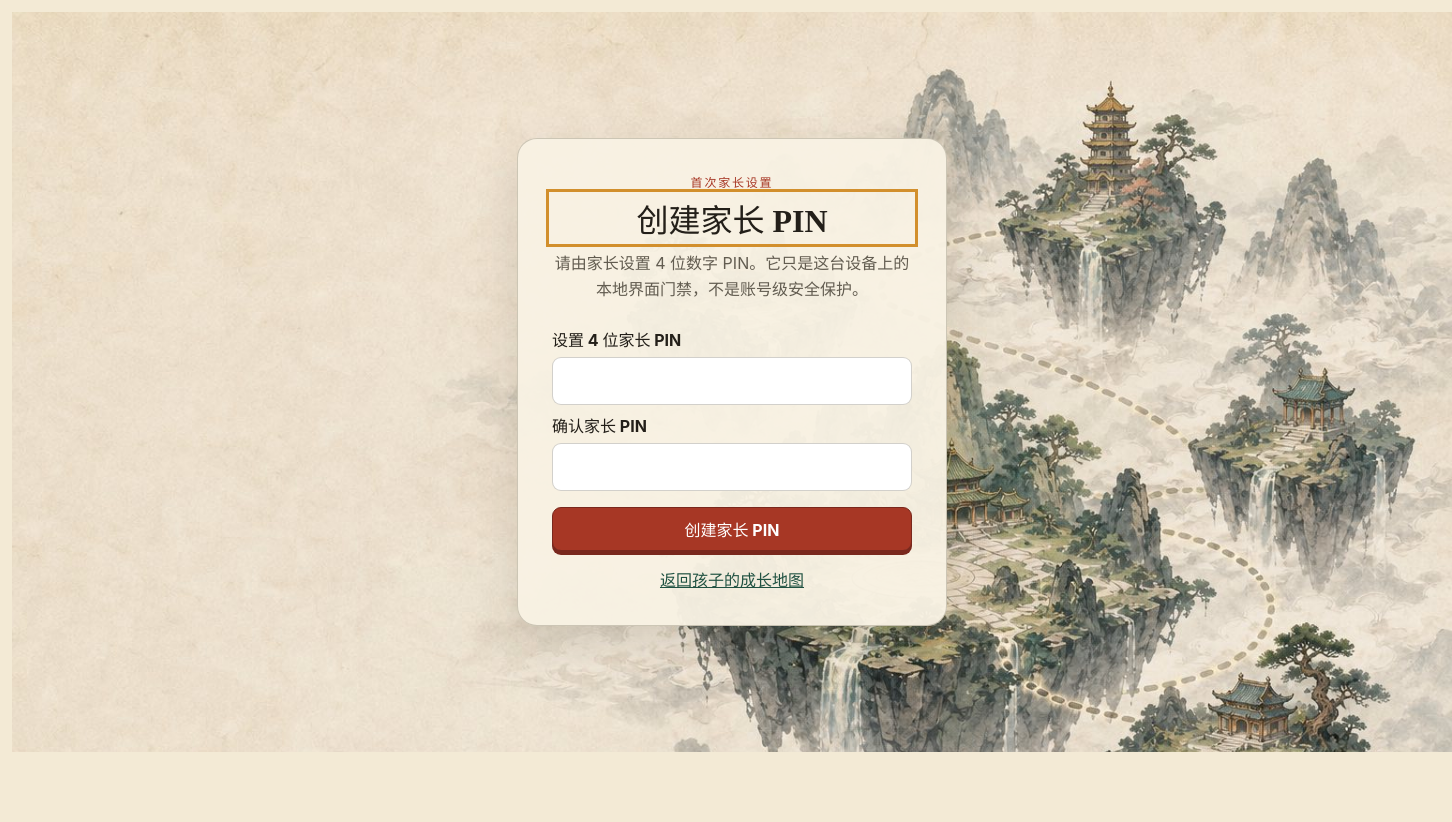
Scenario: ParentAccessGate › commits only after acknowledgement and retries a failed transaction without losing the code
The width and height of the screenshot is (1452, 822).
In the password field labelled "设置 4 位家长 PIN": (732, 381) [552,357,912,405], type "4826"
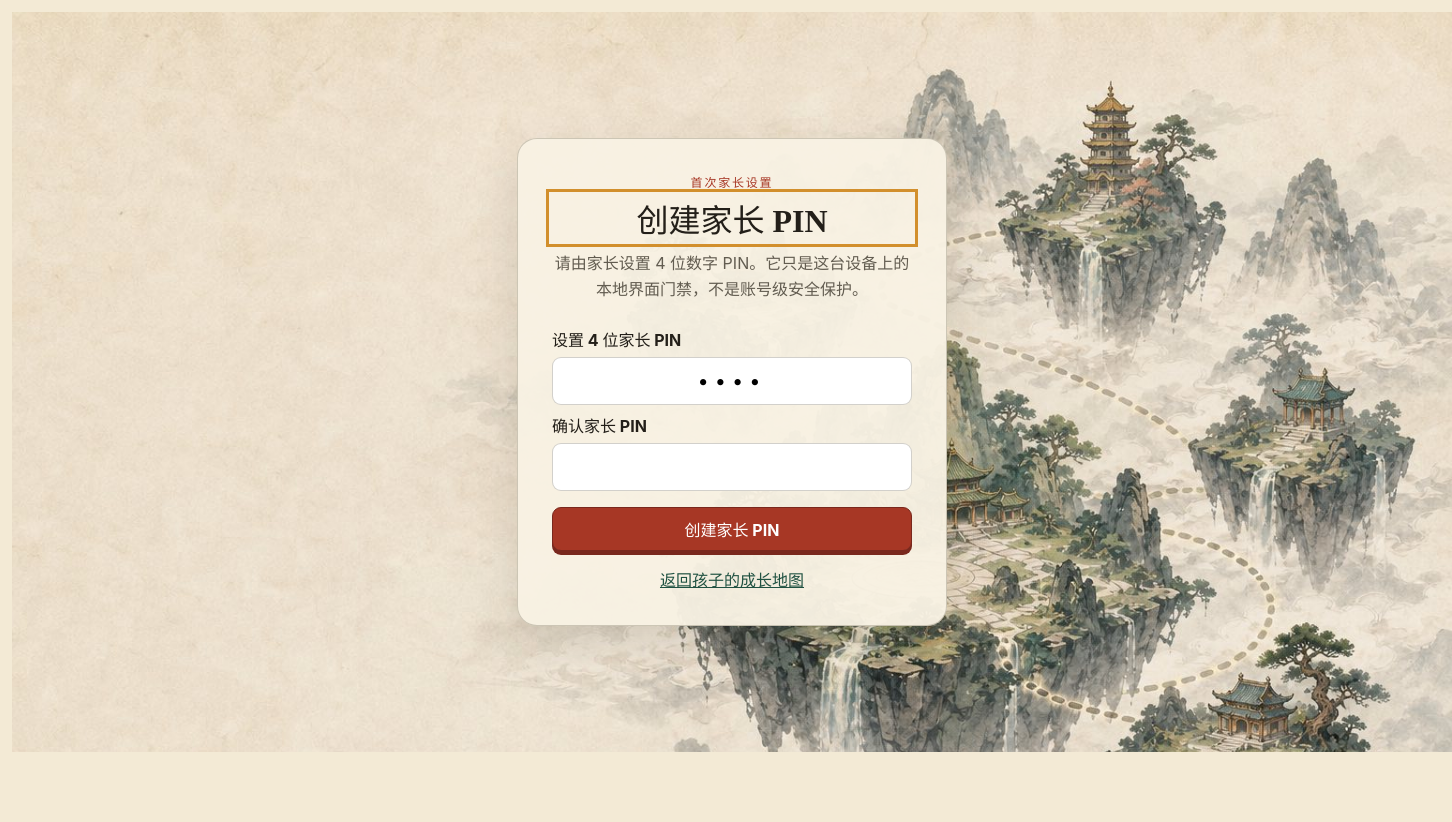
In the password field labelled "确认家长 PIN": (732, 467) [552,443,912,491], type "4826"
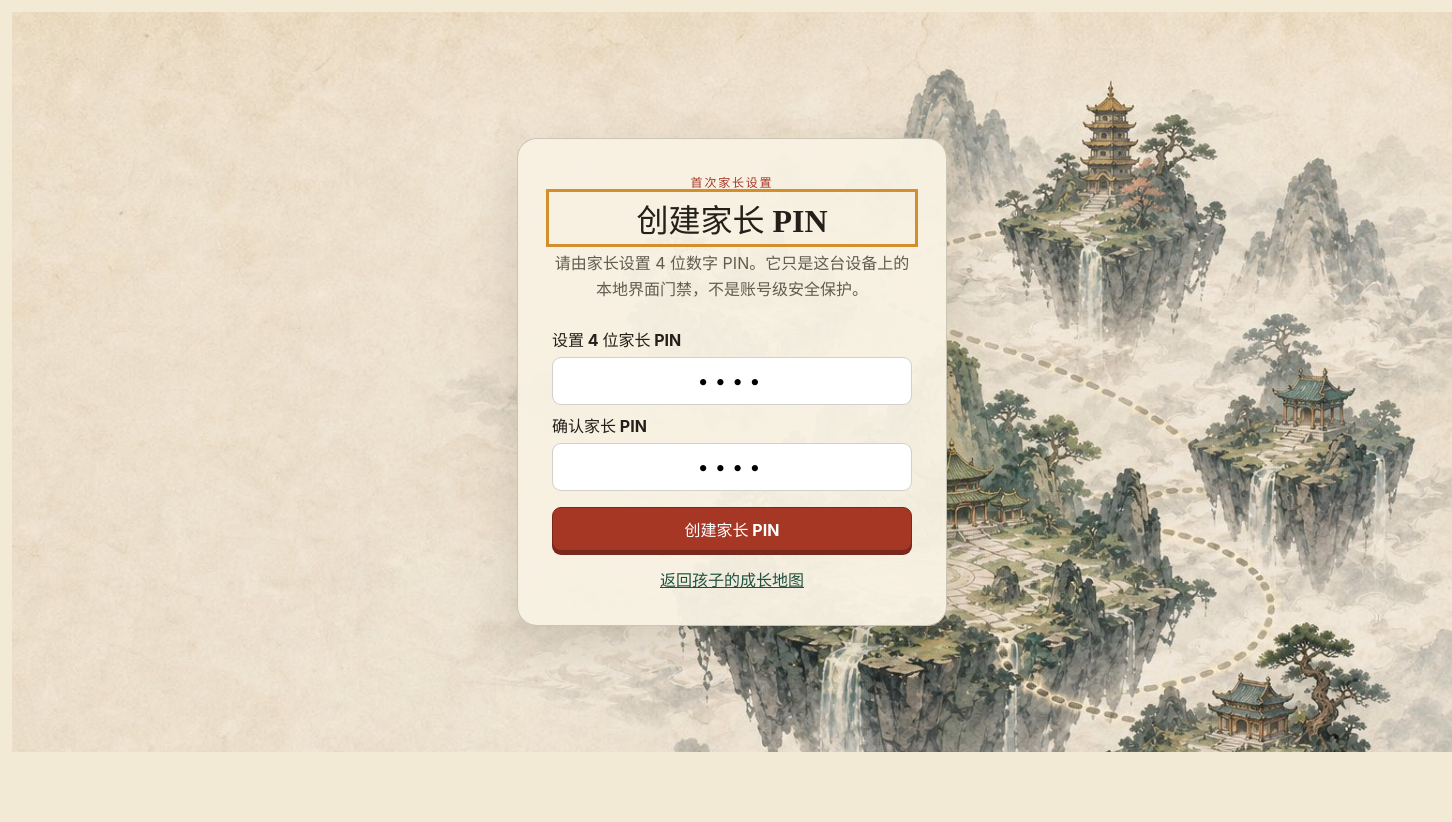
Click the button "创建家长 PIN": (732, 529) [552,507,912,551]
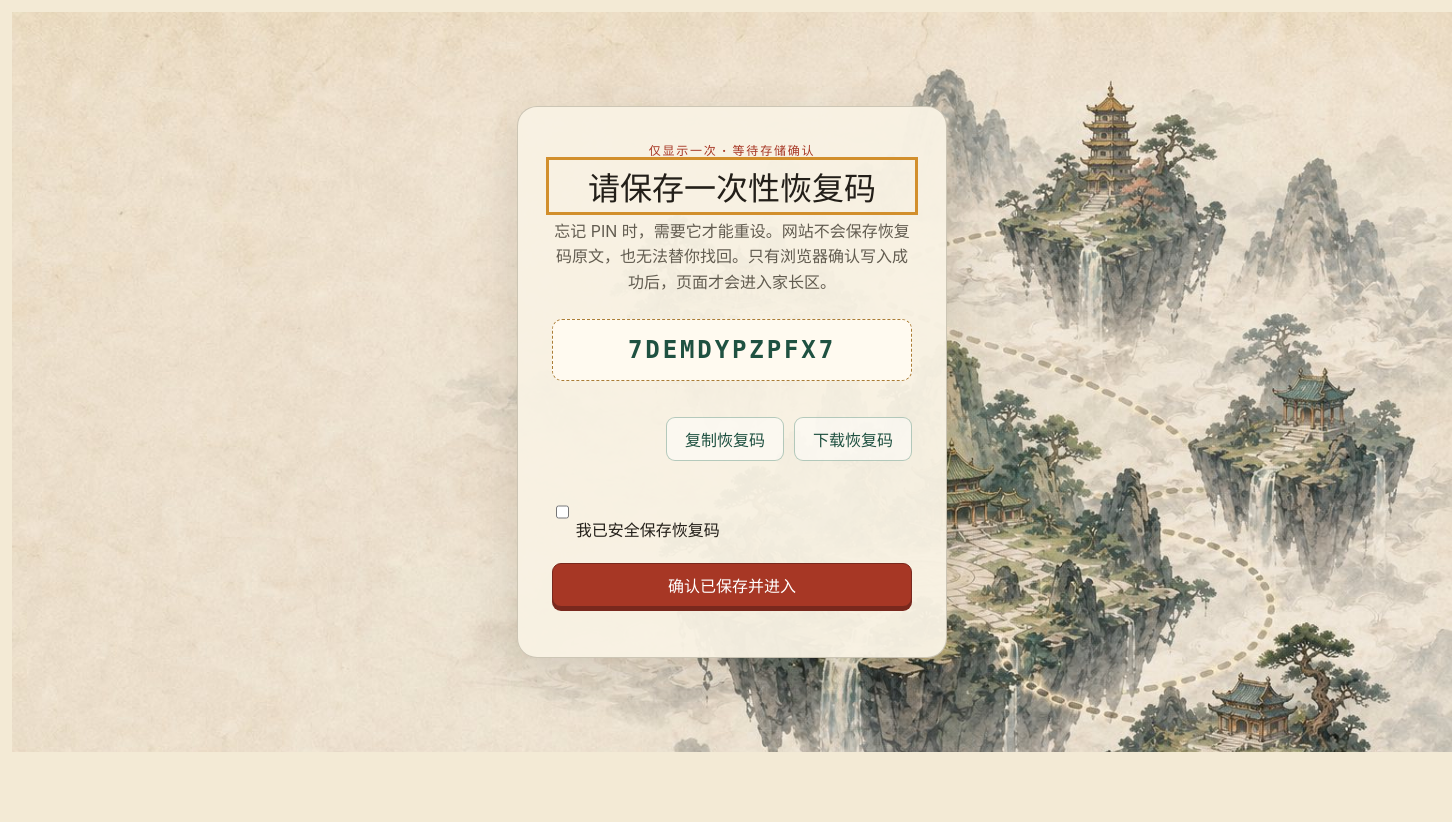
Click the checkbox labelled "我已安全保存恢复码": (562, 512) [556,488,569,536]
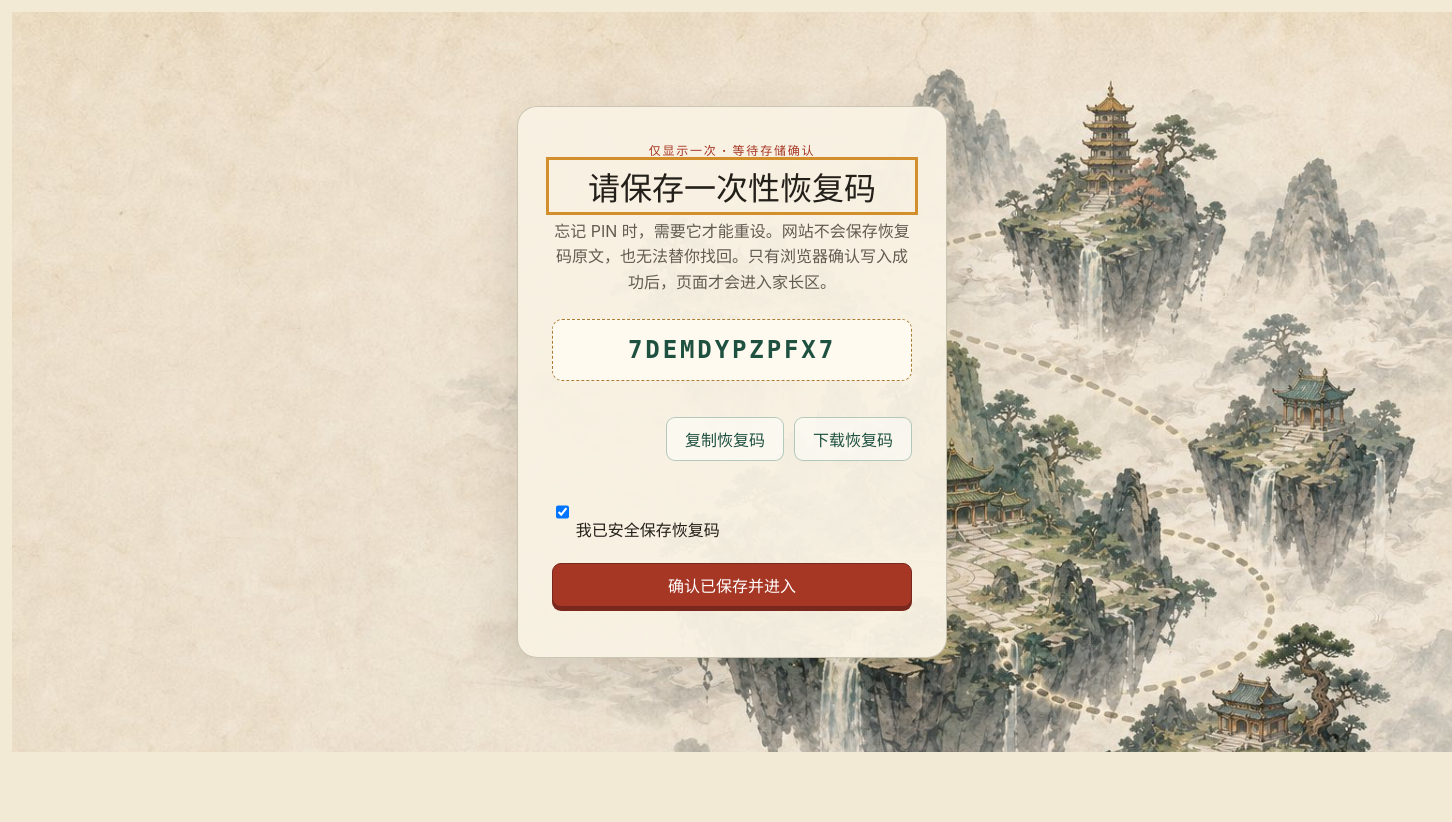
Click the button "确认已保存并进入": (732, 585) [552,563,912,607]
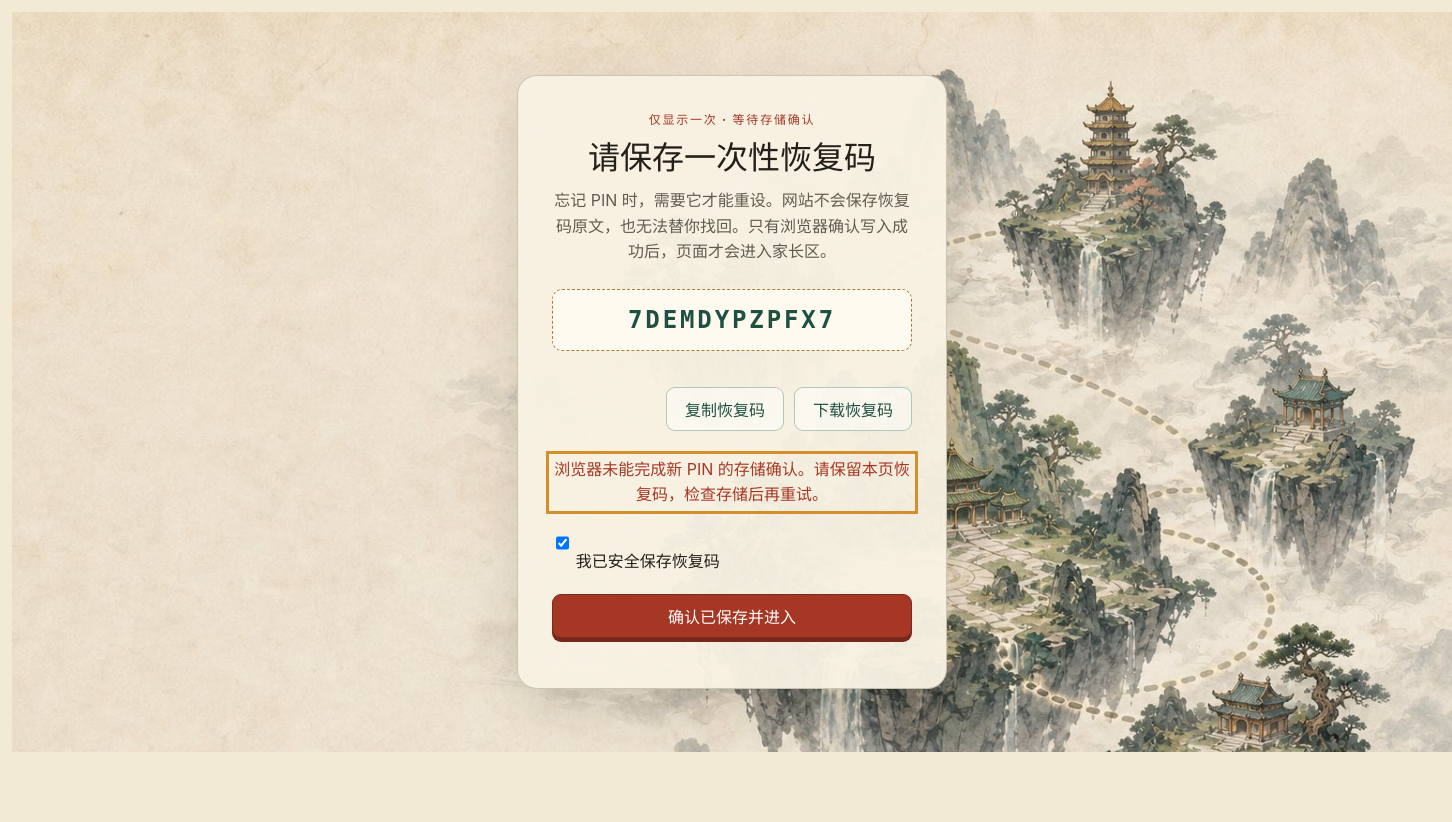
Expected: the text "家长数据" is not shown
Expected: the message shows "未能完成新 PIN 的存储确认", [554,459,910,504]
Click the button "确认已保存并进入": (732, 616) [552,594,912,638]
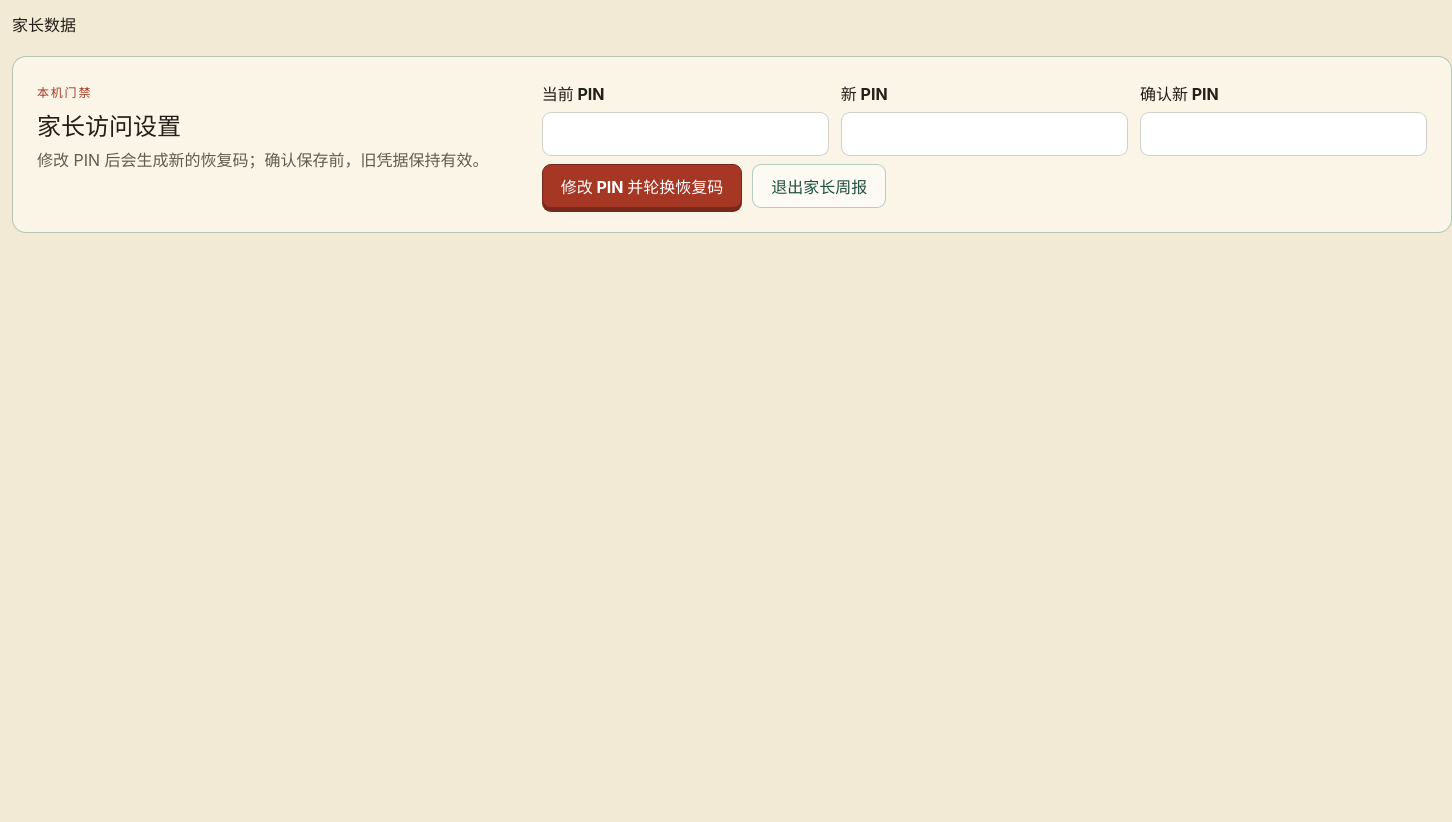
Expected: the text "家长数据" is shown, [12,15,76,35]
